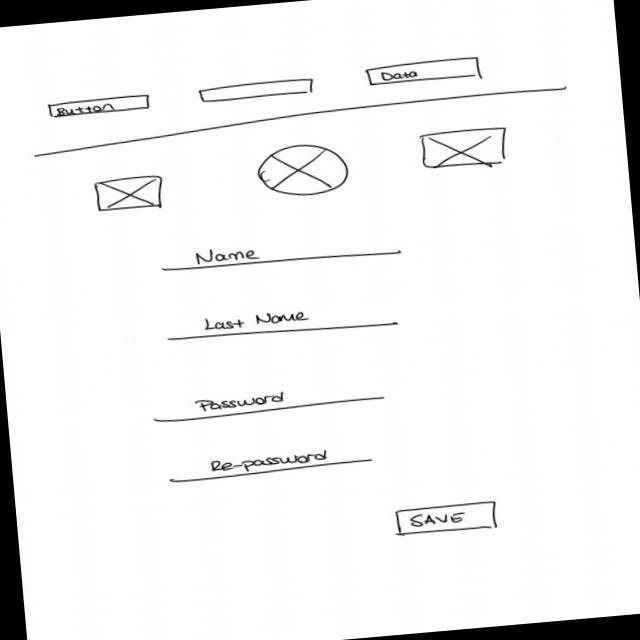button: (395, 500, 500, 539), (364, 56, 483, 88), (46, 93, 152, 120)
image: (256, 141, 353, 202), (419, 125, 513, 171), (94, 174, 167, 214)
input: (164, 301, 401, 348), (151, 381, 389, 426), (160, 232, 403, 276), (165, 444, 375, 487), (197, 78, 317, 105)
